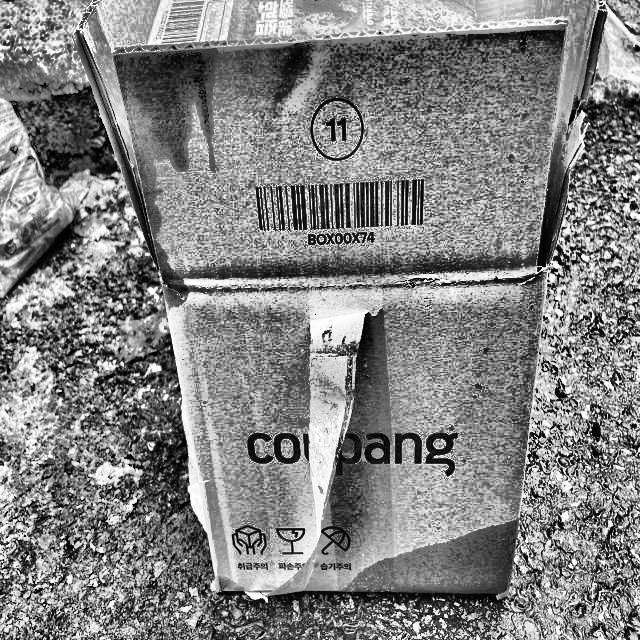box: (65, 0, 578, 614)
wet: (114, 45, 227, 312), (343, 506, 521, 612)
